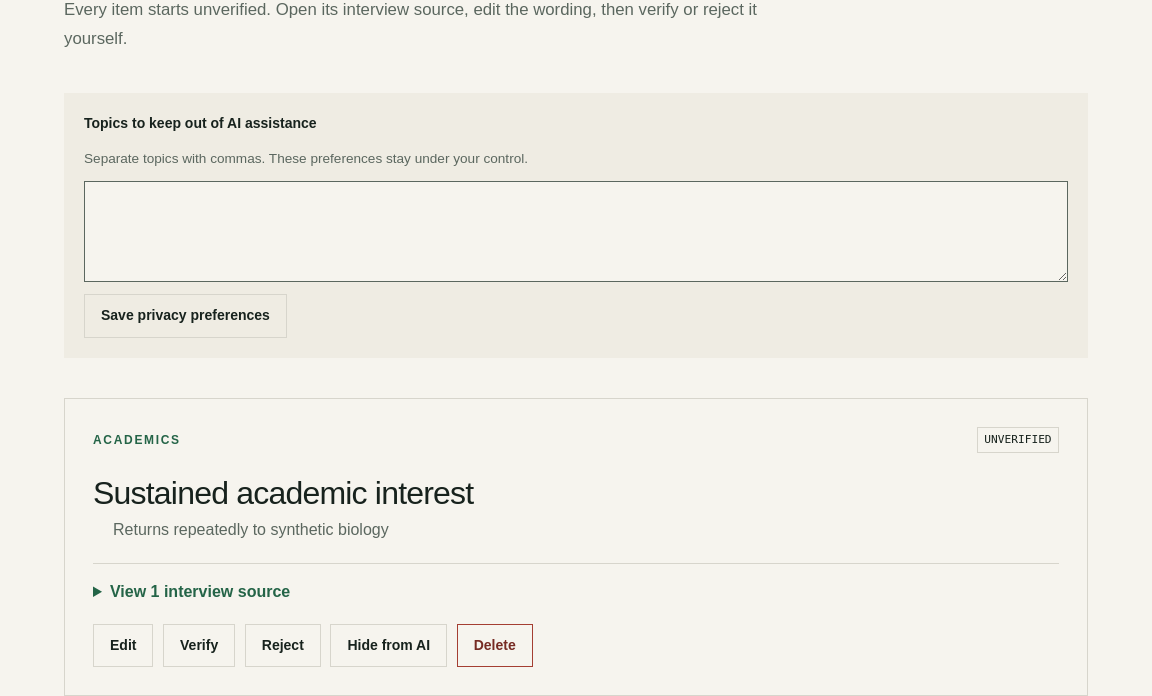
Test: Story Vault review › requires explicit confirmation before deleting a fact
(page scrolled)
Click the button "Delete" at (495, 645), box x1=457 y1=624 x2=533 y2=667
(page scrolled)
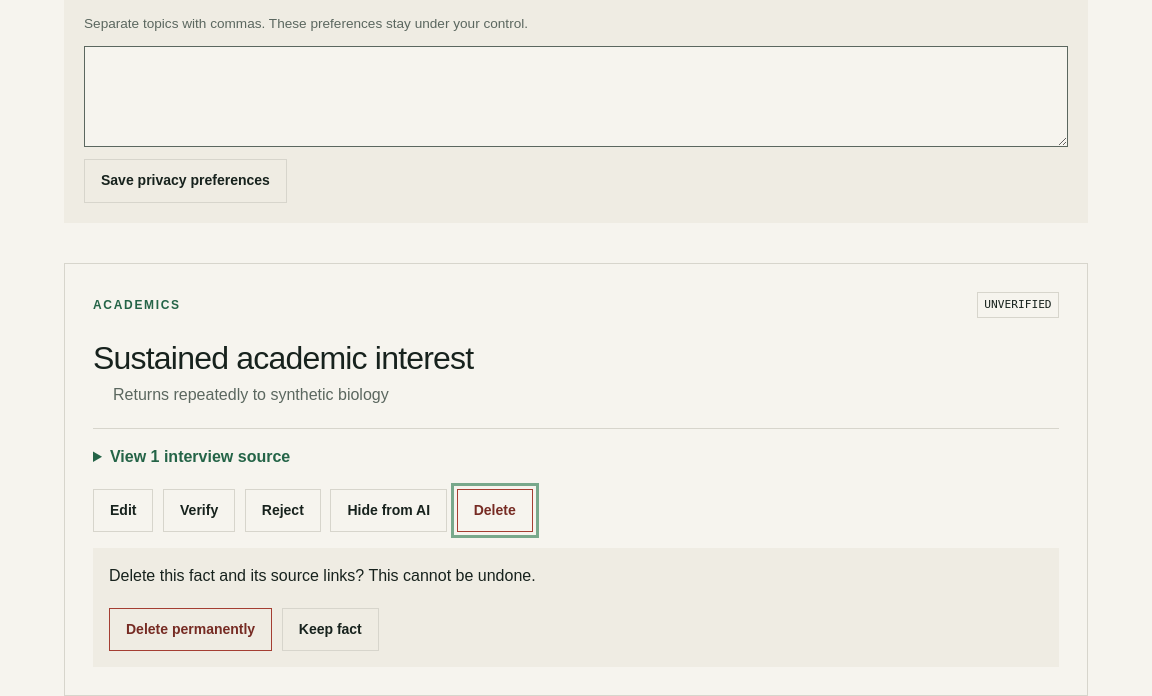
Click the button "Delete permanently" at (191, 629), box x1=109 y1=608 x2=272 y2=651
(page scrolled)
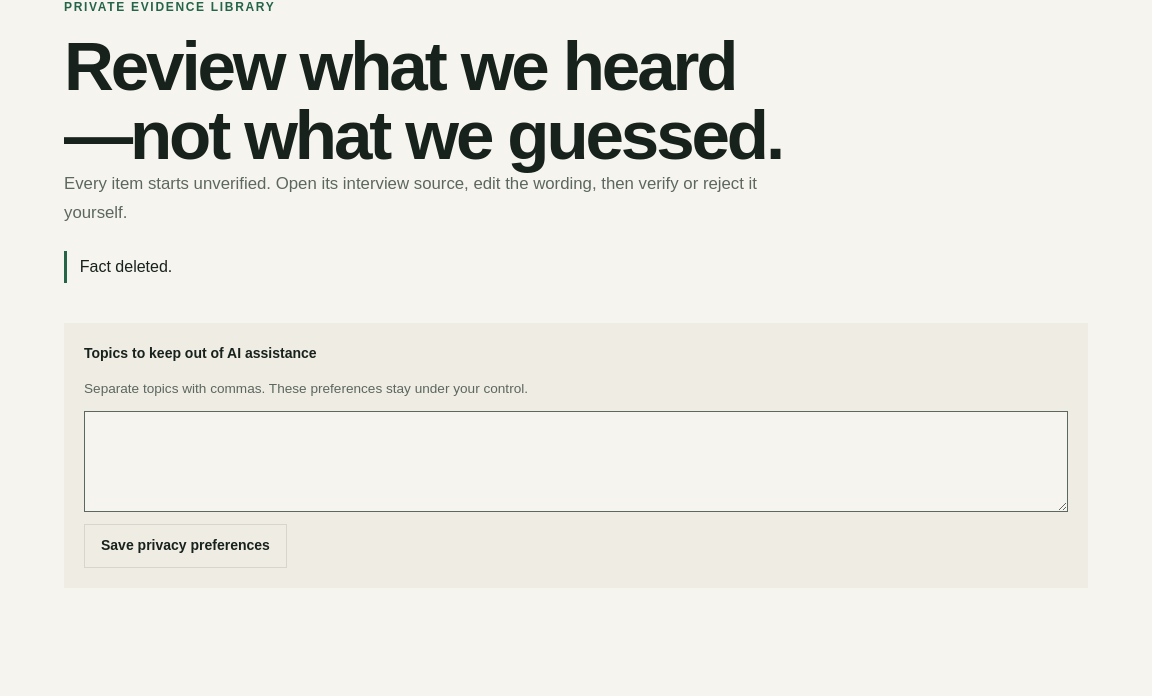
expect the message shows "Fact deleted": met, box x1=80 y1=258 x2=172 y2=275
expect the heading "Sustained academic interest" is gone: met
